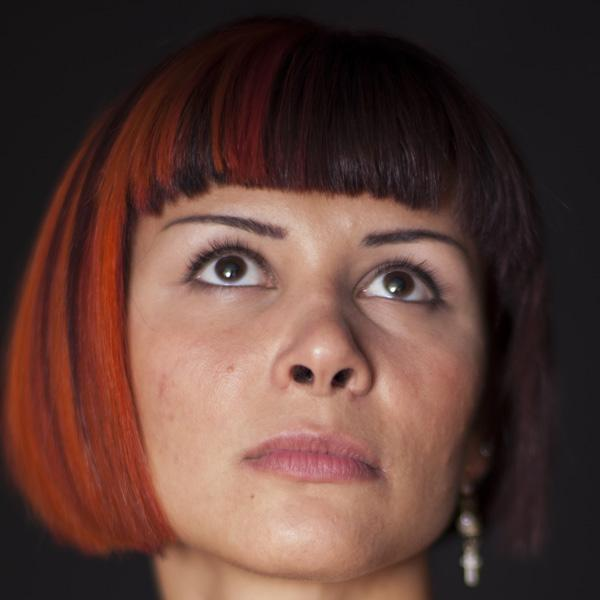Eyes: (175, 234, 289, 311), (346, 246, 456, 322)
